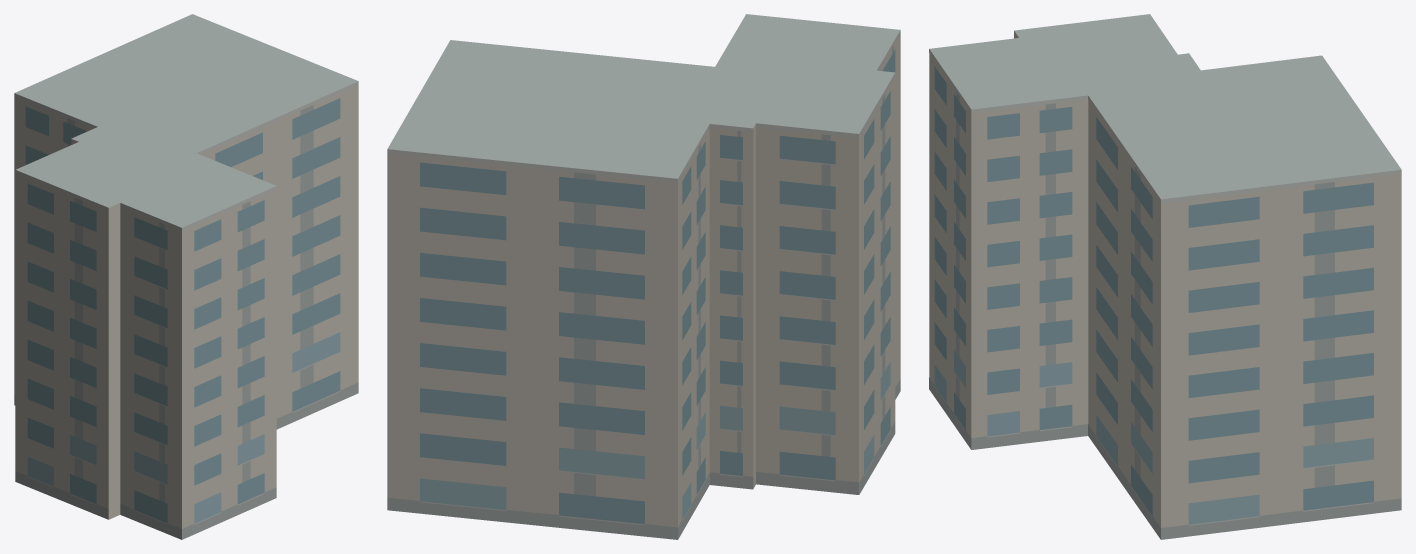
File: survey-upis-32978394.glb
3 renders of one model, left to right at view 1: azimuth 30°, elevation 25°; view 2: azimuth 150°, elevation 25°; view 3: azimuth 270°, elevation 25°, orthographic. The views are drawn at different scales.
Visible parts, largest first — view 1: survey-upis-32978394.tmp; view 2: survey-upis-32978394.tmp; view 3: survey-upis-32978394.tmp.
Boxes of the visible parts, x1=… form: survey-upis-32978394.tmp: x1=14, y1=14, x2=358, y2=539; survey-upis-32978394.tmp: x1=387, y1=14, x2=900, y2=539; survey-upis-32978394.tmp: x1=929, y1=14, x2=1401, y2=539.
Bounding box in the file's own units: 24.89 × 21.3 × 26.8.
